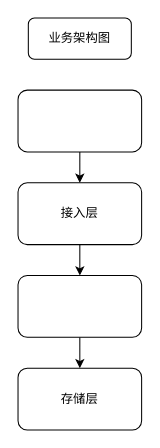
Image size: 160x448. Some labels were removed from this diagram. Each missing label, with the box of its shape:
T课堂: (17, 89, 142, 152)
逻辑服务: (17, 274, 142, 337)
